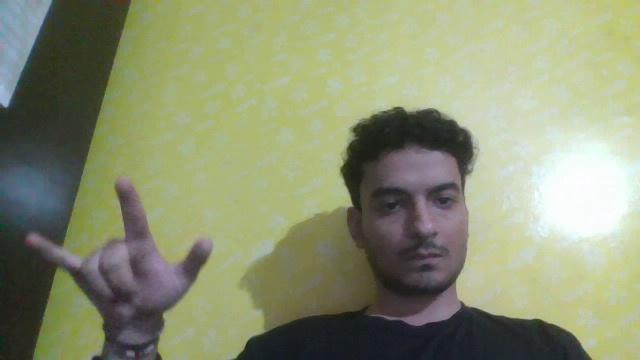Loveyou: (16, 191, 246, 347)
